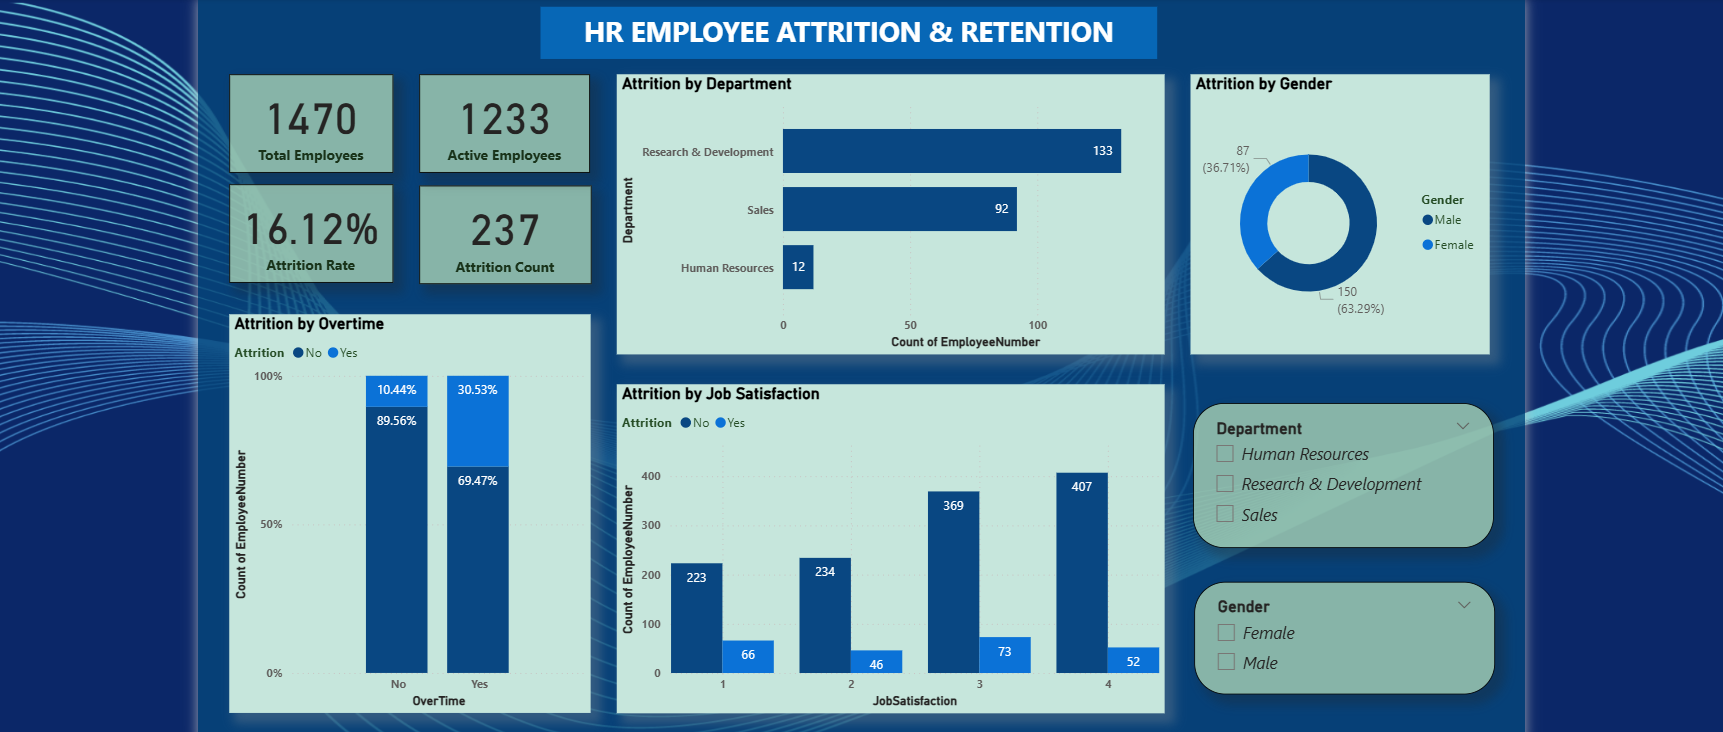

The dashboard page shown, as its layout file describes it:
{"tool":"powerbi","page":{"name":"HR Analytics","canvas":[1280,720],"ordinal":0},"visuals":[{"type":"card","fields":{"Values":["CountNonNull(HR-Employee-Attrition.EmployeeNumber)"]},"box":[30,74,158,95],"z":0},{"type":"card","fields":{"Values":["CountNonNull(HR-Employee-Attrition.Attrition)"]},"box":[214,181,166,95],"z":1000},{"type":"card","fields":{"Values":["HR-Employee-Attrition.Attrition Rate"]},"box":[30,180,158,95],"z":2000},{"type":"card","fields":{"Values":["CountNonNull(HR-Employee-Attrition.EmployeeNumber)"]},"box":[214,74,165,95],"z":3000},{"type":"clusteredBarChart","title":"Attrition by Department","fields":{"Category":["HR-Employee-Attrition.Department"],"Y":["CountNonNull(HR-Employee-Attrition.EmployeeNumber)"]},"box":[403.8,73.8,528.8,270],"z":4000},{"type":"hundredPercentStackedColumnChart","title":"Attrition by Overtime","fields":{"Category":["HR-Employee-Attrition.OverTime"],"Y":["CountNonNull(HR-Employee-Attrition.EmployeeNumber)"],"Series":["HR-Employee-Attrition.Attrition"]},"box":[30,305,348.8,385],"z":5000},{"type":"textbox","box":[330,8,595,50],"z":6000},{"type":"clusteredColumnChart","title":"Attrition by Job Satisfaction","fields":{"Category":["HR-Employee-Attrition.JobSatisfaction"],"Y":["CountNonNull(HR-Employee-Attrition.EmployeeNumber)"],"Series":["HR-Employee-Attrition.Attrition"]},"box":[403.8,372.5,528.8,317.5],"z":7000},{"type":"donutChart","title":"Attrition by Gender","fields":{"Category":["HR-Employee-Attrition.Gender"],"Y":["CountNonNull(HR-Employee-Attrition.EmployeeNumber)"]},"box":[958,74,289,270],"z":8000},{"type":"slicer","fields":{"Values":["HR-Employee-Attrition.Department"]},"box":[960,391.2,290,140],"z":9000},{"type":"slicer","fields":{"Values":["HR-Employee-Attrition.Gender"]},"box":[961.2,563.8,290,108.8],"z":10000}]}

Visuals, with their boxes in screenshot pixels (x1, y1, x2, y2):
card - CountNonNull(HR-Employee-Attrition.EmployeeNumber): [left=224, top=68, right=388, bottom=167]
card - CountNonNull(HR-Employee-Attrition.Attrition): [left=415, top=179, right=588, bottom=278]
card - HR-Employee-Attrition.Attrition Rate: [left=224, top=178, right=388, bottom=277]
card - CountNonNull(HR-Employee-Attrition.EmployeeNumber): [left=415, top=68, right=587, bottom=167]
"Attrition by Department" clusteredBarChart: [left=612, top=68, right=1162, bottom=348]
"Attrition by Overtime" hundredPercentStackedColumnChart: [left=224, top=308, right=586, bottom=708]
textbox: [left=536, top=0, right=1154, bottom=51]
"Attrition by Job Satisfaction" clusteredColumnChart: [left=612, top=378, right=1162, bottom=708]
"Attrition by Gender" donutChart: [left=1188, top=68, right=1488, bottom=348]
slicer - HR-Employee-Attrition.Department: [left=1190, top=397, right=1491, bottom=543]
slicer - HR-Employee-Attrition.Gender: [left=1191, top=577, right=1492, bottom=690]
